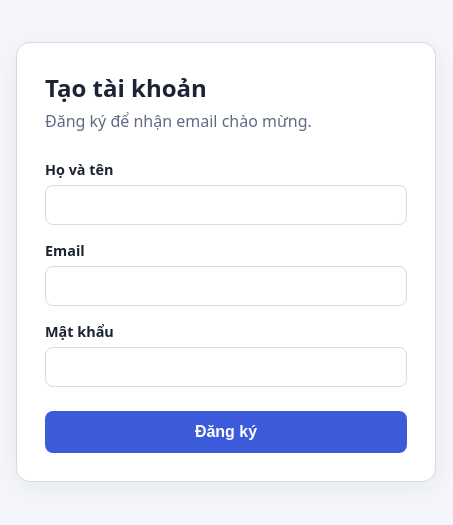
Test case: App (form đăng ký) › F-05 email đã tồn tại (409): hiển thị thông báo từ máy chủ
The image size is (453, 525).
Type "Nguyen Van A" into the field labelled "Họ và tên".
click(226, 205); type("Nguyen Van A")  # box [45,185,407,225]
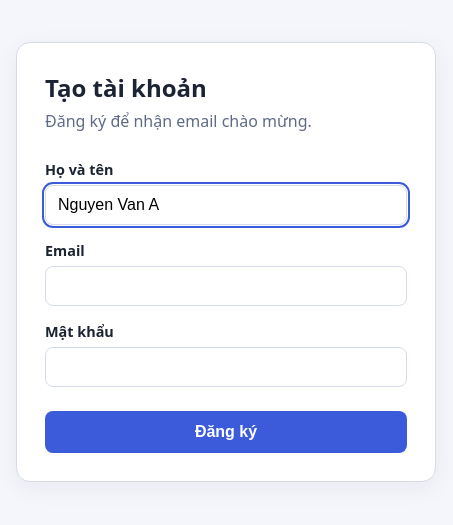
Type "a@example.com" into the field labelled "Email".
click(226, 286); type("a@example.com")  # box [45,266,407,306]
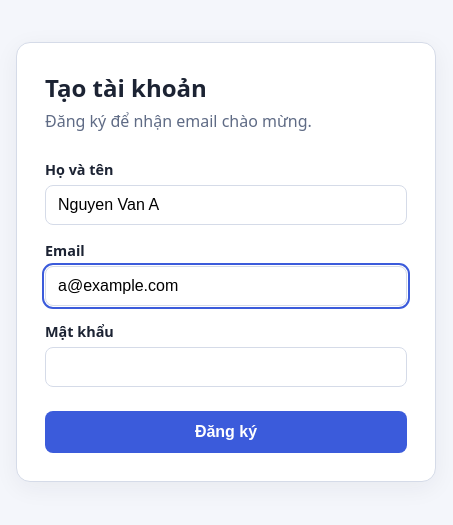
Type "secret123" into the password field labelled "Mật khẩu".
click(226, 367); type("secret123")  # box [45,347,407,387]
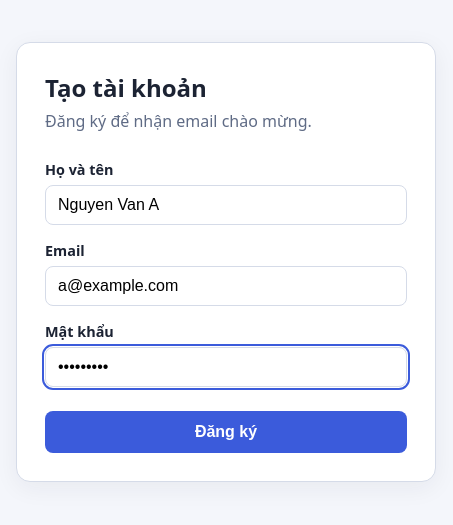
Click the button "Đăng ký".
click(226, 432)  # box [45,411,407,453]
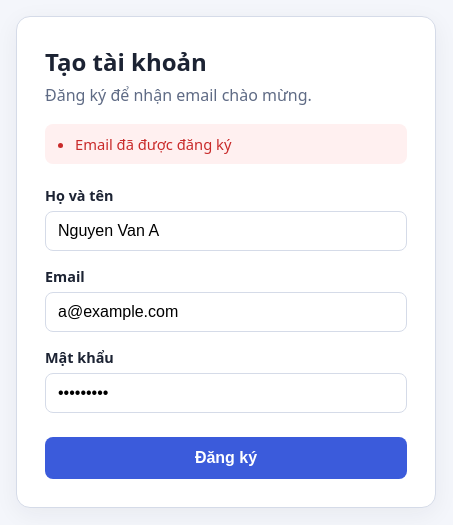
Result: the message reads "Email đã được đăng ký" at [75,134,231,154]
